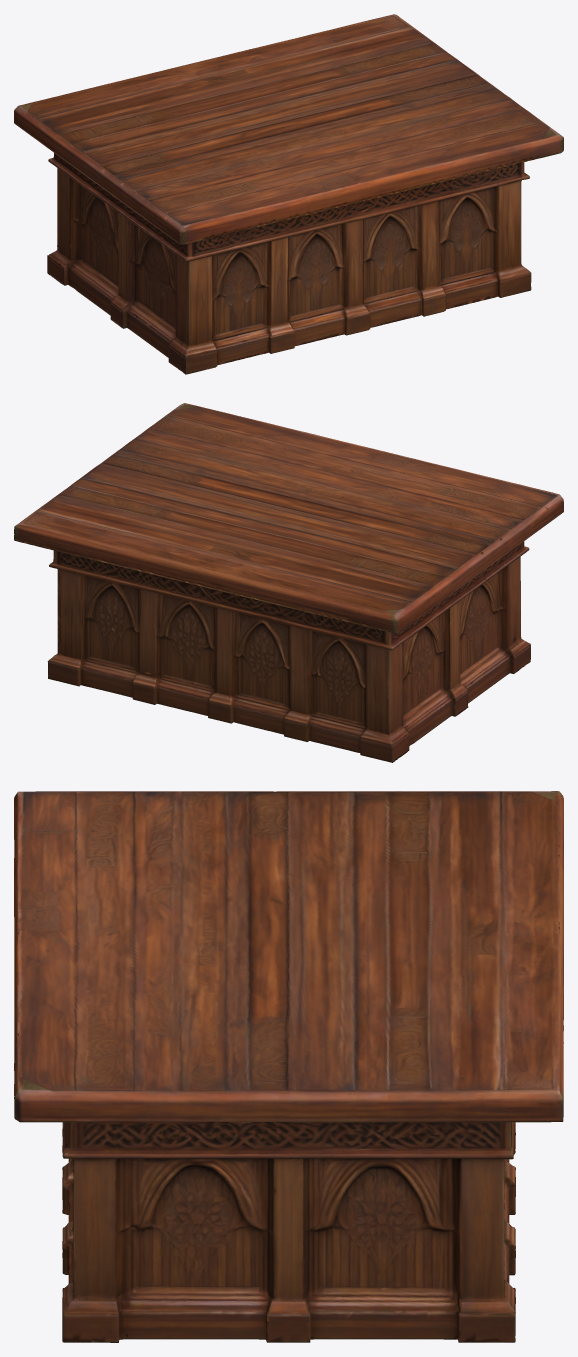
The model's file is Wooden_Gothic_Table_0722163548_texture.fbx.
The picture shows the model from 3 angles, top to bottom: view 1: azimuth 30°, elevation 25°; view 2: azimuth 150°, elevation 25°; view 3: azimuth 270°, elevation 25°; orthographic projection. The views are drawn at different scales.
Visible parts, largest first — view 1: Mesh_0; view 2: Mesh_0; view 3: Mesh_0.
Boxes of the visible parts, x1,y1,x2,y2 form: Mesh_0: (14, 14, 563, 374); Mesh_0: (14, 403, 563, 762); Mesh_0: (14, 791, 563, 1342).
Bounding box in the file's own units: 200 × 80.63 × 152.
1 material, 1 textured.
